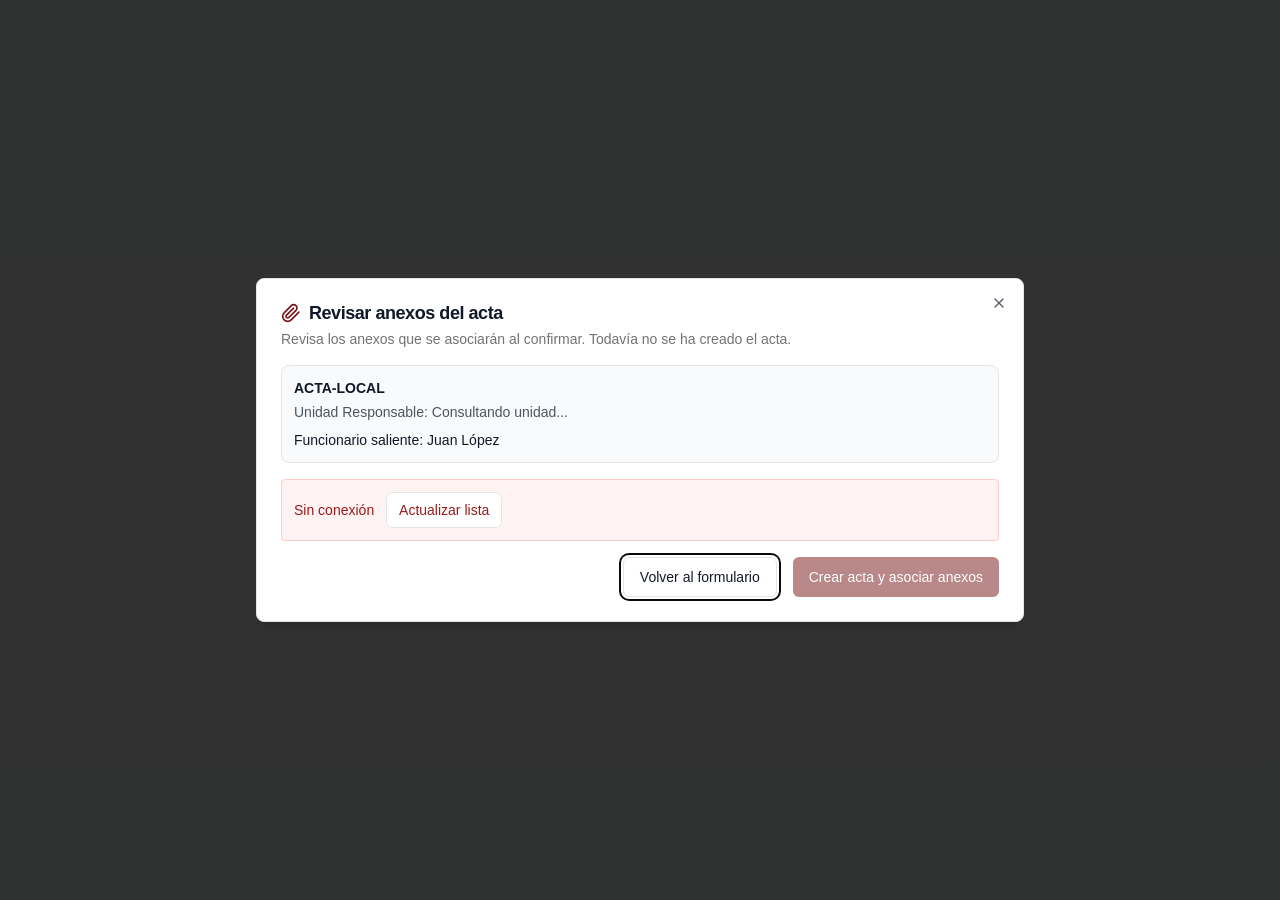
Test case: bloquea la confirmación si la consulta falla y permite reintentar
Expected: the message shows "Sin conexión", [294,502,374,518]
Expected: the button "Crear acta y asociar anexos" is disabled, [793,557,999,597]
Click the button "Actualizar lista".
click(444, 510)  # box [386,492,502,528]
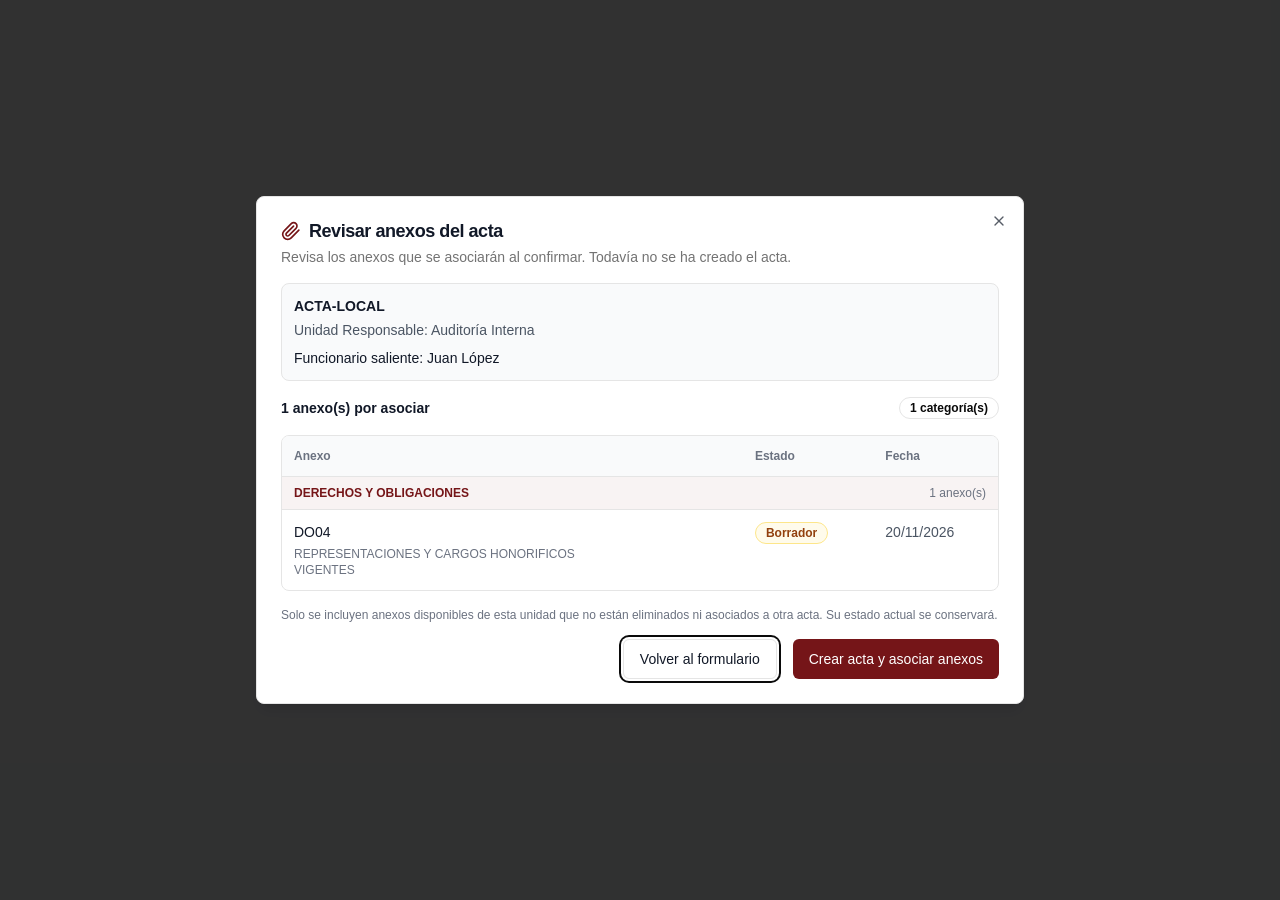
Expected: the text "Borrador" is shown, [755,522,828,544]
Expected: the button "Crear acta y asociar anexos" is enabled, [793,639,999,679]
